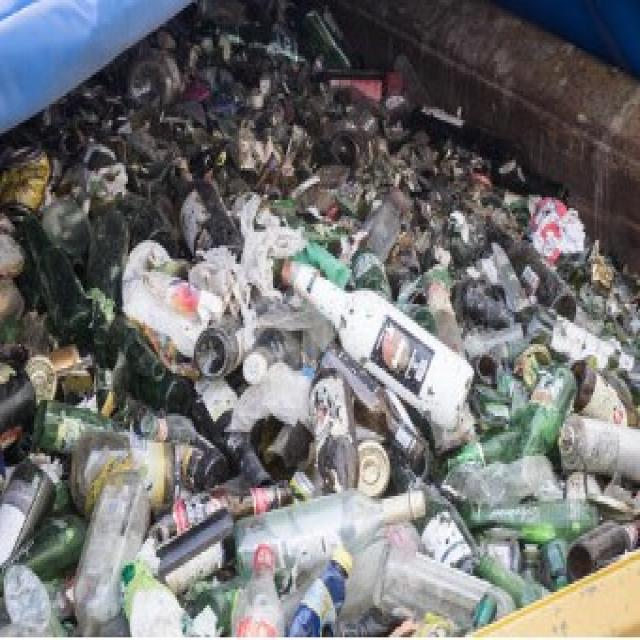electronic: (278, 249, 474, 429)
